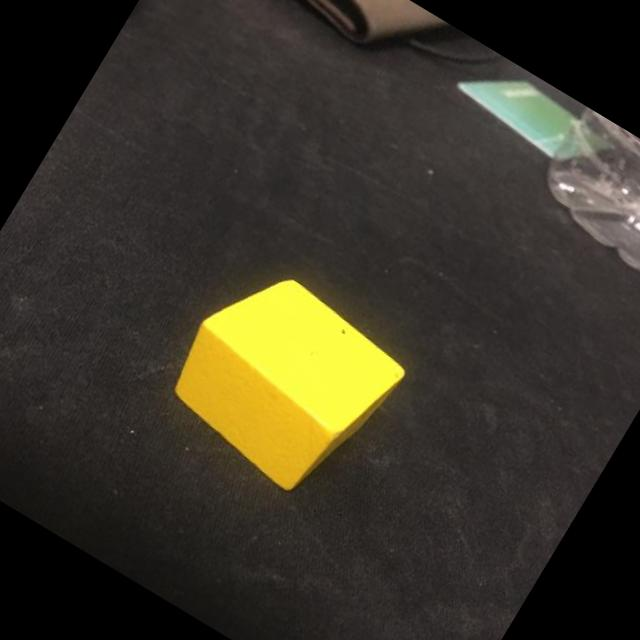yellow: (151, 249, 420, 513)
